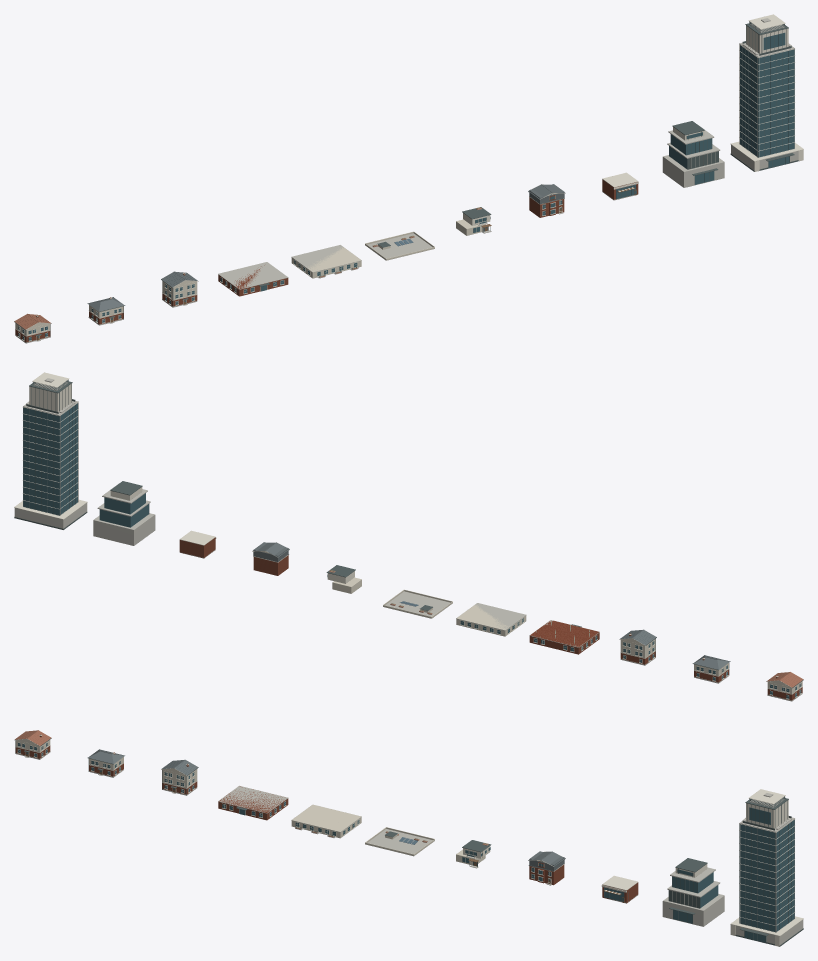
The model's file is architecture.glb.
3 renders of one model, top to bottom at view 1: azimuth 30°, elevation 25°; view 2: azimuth 150°, elevation 25°; view 3: azimuth 330°, elevation 25°, orthographic.
Parts seen in each view (by area): view 1: office_lantern__Recessed blue green glazing, office_lantern__Pale limestone trim, office_lantern__Painted zinc and iron, office_stepped__Precast balcony concrete, office_lantern__Precast balcony concrete, apartment_ground__Precast balcony concrete, office_stepped__Recessed blue green glazing, apartment_floor__Lime plaster, office_stepped__Painted zinc and iron, apartment_roof__Precast balcony concrete, apartment_floor__Precast balcony concrete; view 2: office_lantern__Recessed blue green glazing, office_lantern__Pale limestone trim, office_lantern__Painted zinc and iron, office_stepped__Precast balcony concrete, apartment_ground__Warm fired brick, office_lantern__Precast balcony concrete, office_stepped__Recessed blue green glazing, apartment_floor__Lime plaster, apartment_roof__Precast balcony concrete, apartment_floor__Precast balcony concrete; view 3: office_lantern__Recessed blue green glazing, office_lantern__Pale limestone trim, office_lantern__Painted zinc and iron, office_stepped__Precast balcony concrete, apartment_floor__Lime plaster, office_lantern__Precast balcony concrete, apartment_ground__Precast balcony concrete, apartment_ground__Warm fired brick, office_stepped__Recessed blue green glazing, office_stepped__Painted zinc and iron, apartment_roof__Precast balcony concrete, terrace_bay__Slate roof (+2 smaller).
Boxes of the visible parts, x1,y1,x2,y2 form: office_lantern__Recessed blue green glazing: [740, 32, 794, 167]; office_lantern__Pale limestone trim: [730, 14, 803, 171]; office_lantern__Painted zinc and iron: [730, 21, 798, 171]; office_stepped__Precast balcony concrete: [662, 125, 724, 187]; office_lantern__Precast balcony concrete: [731, 18, 798, 169]; apartment_ground__Precast balcony concrete: [218, 262, 288, 289]; office_stepped__Recessed blue green glazing: [669, 132, 714, 184]; apartment_floor__Lime plaster: [291, 247, 361, 278]; office_stepped__Painted zinc and iron: [672, 121, 718, 184]; apartment_roof__Precast balcony concrete: [365, 233, 433, 260]; apartment_floor__Precast balcony concrete: [291, 245, 361, 278]; office_lantern__Recessed blue green glazing: [23, 403, 77, 515]; office_lantern__Pale limestone trim: [14, 372, 87, 519]; office_lantern__Painted zinc and iron: [14, 380, 87, 529]; office_stepped__Precast balcony concrete: [93, 485, 155, 545]; apartment_ground__Warm fired brick: [529, 620, 599, 654]; office_lantern__Precast balcony concrete: [14, 378, 86, 528]; office_stepped__Recessed blue green glazing: [99, 493, 148, 527]; apartment_floor__Lime plaster: [456, 605, 526, 636]; apartment_roof__Precast balcony concrete: [384, 591, 451, 618]; apartment_floor__Precast balcony concrete: [456, 603, 526, 630]; office_lantern__Recessed blue green glazing: [739, 807, 794, 942]; office_lantern__Pale limestone trim: [730, 789, 803, 946]; office_lantern__Painted zinc and iron: [735, 796, 803, 946]; office_stepped__Precast balcony concrete: [662, 867, 724, 926]; apartment_floor__Lime plaster: [291, 804, 361, 838]; office_lantern__Precast balcony concrete: [736, 793, 803, 944]; apartment_ground__Precast balcony concrete: [218, 785, 288, 813]; apartment_ground__Warm fired brick: [218, 786, 288, 820]; office_stepped__Recessed blue green glazing: [672, 869, 718, 923]; office_stepped__Painted zinc and iron: [668, 858, 707, 923]; apartment_roof__Precast balcony concrete: [365, 829, 434, 856]; terrace_bay__Slate roof: [528, 851, 565, 870].
Size of the model in its own units: 379 by 64 by 22.18.
Materials: 13 (1 with a texture image).
